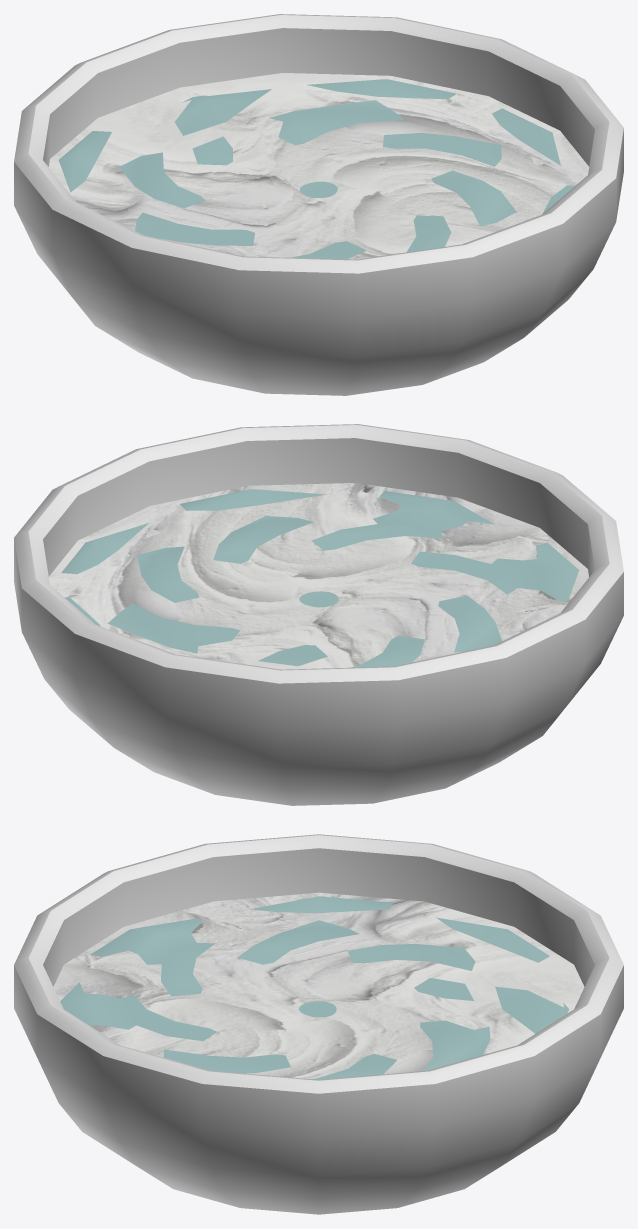
File: Bowl of paste.fbx
The picture shows the model from 3 angles, top to bottom: view 1: azimuth 30°, elevation 25°; view 2: azimuth 150°, elevation 25°; view 3: azimuth 270°, elevation 25°; orthographic projection.
Parts seen in each view (by area): view 1: polySurface1, Paste, polySurface2; view 2: polySurface1, Paste, polySurface2; view 3: polySurface1, Paste, polySurface2.
Boxes of the visible parts, x1=… form: polySurface1: x1=14, y1=14, x2=623, y2=395; Paste: x1=49, y1=73, x2=588, y2=259; polySurface2: x1=58, y1=79, x2=575, y2=259; polySurface1: x1=14, y1=424, x2=623, y2=805; Paste: x1=49, y1=483, x2=588, y2=669; polySurface2: x1=61, y1=489, x2=579, y2=667; polySurface1: x1=14, y1=834, x2=623, y2=1214; Paste: x1=53, y1=892, x2=584, y2=1078; polySurface2: x1=60, y1=896, x2=569, y2=1079.
Size of the model in its own units: 0.5373 by 0.1823 by 0.5373.
Materials: 3 (1 with a texture image).
